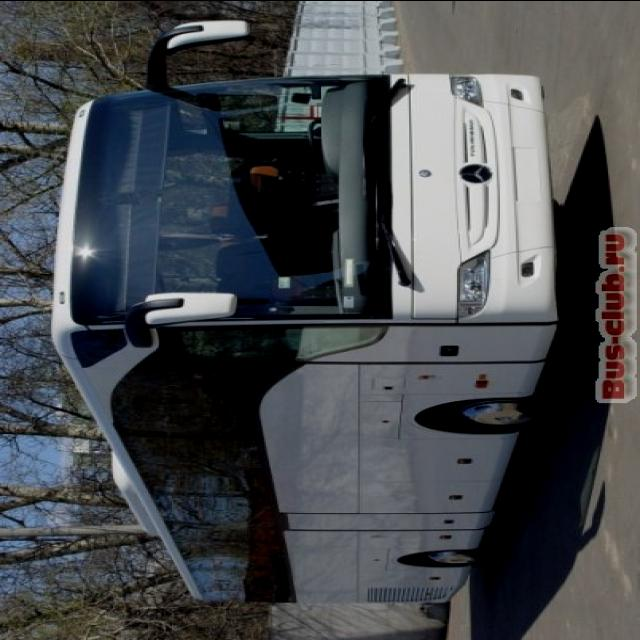bus: (47, 21, 577, 605)
